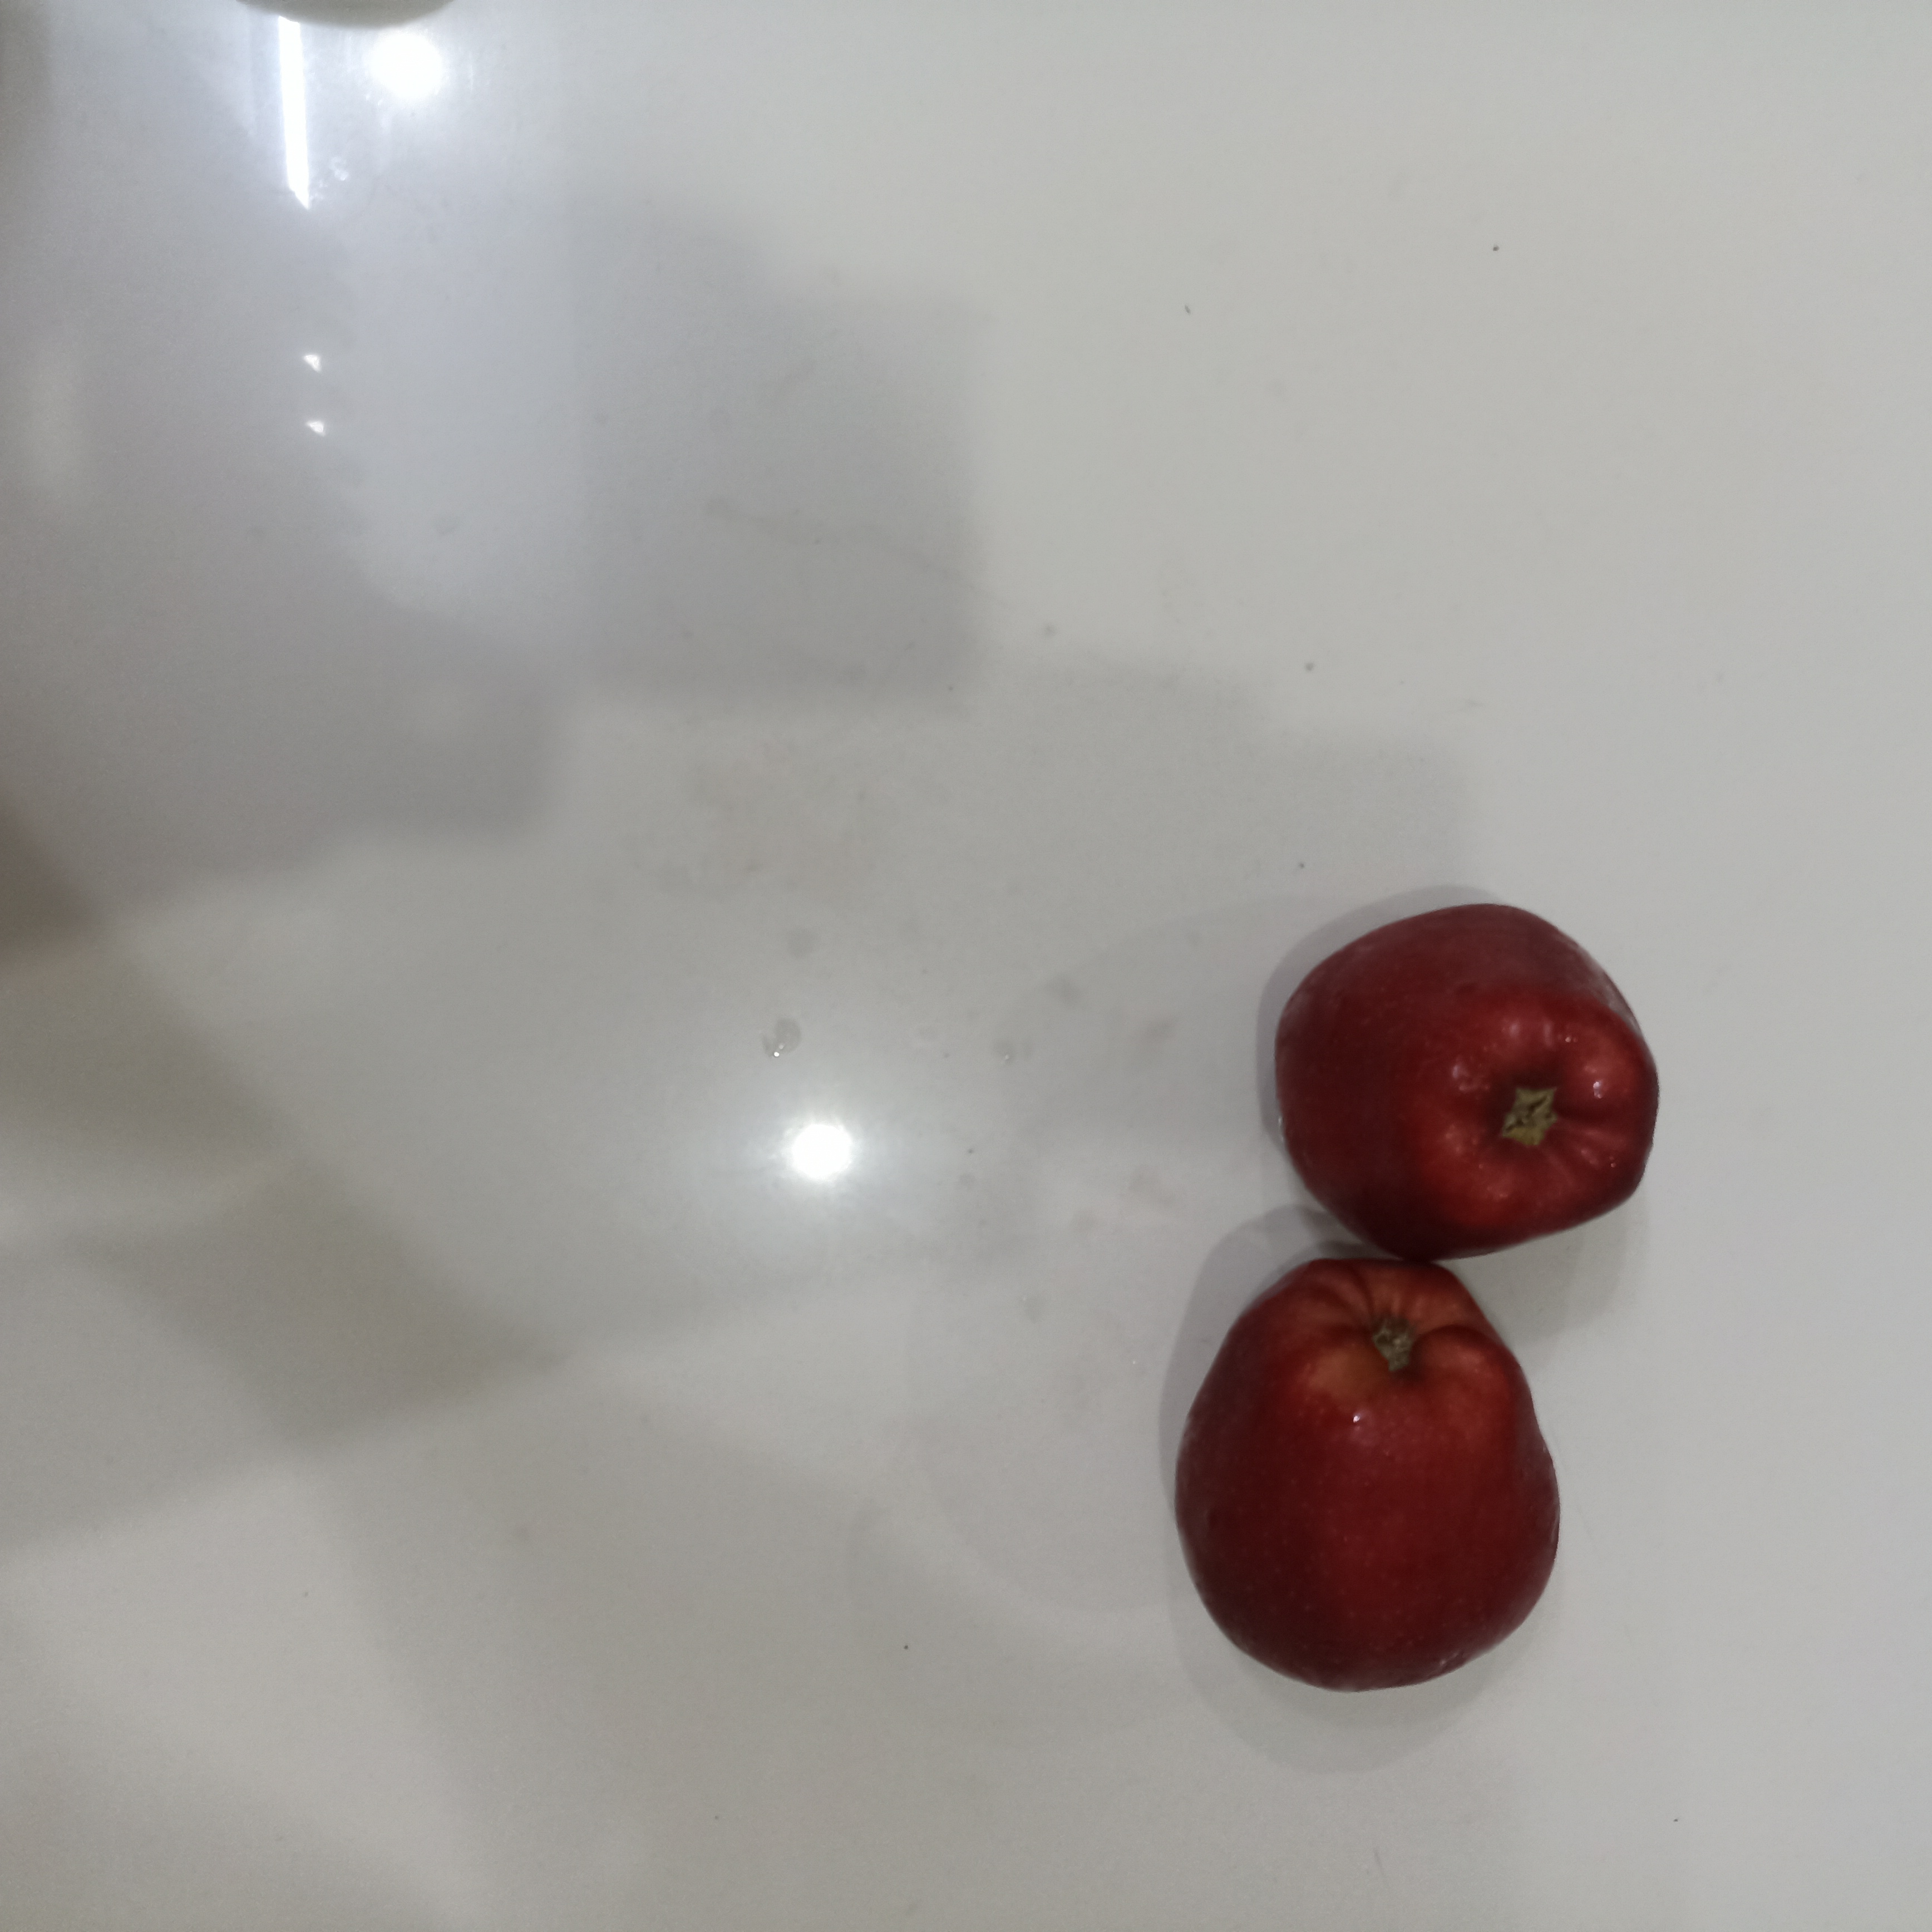Tao do: (1170, 1256, 1561, 1690), (1273, 905, 1658, 1266)
